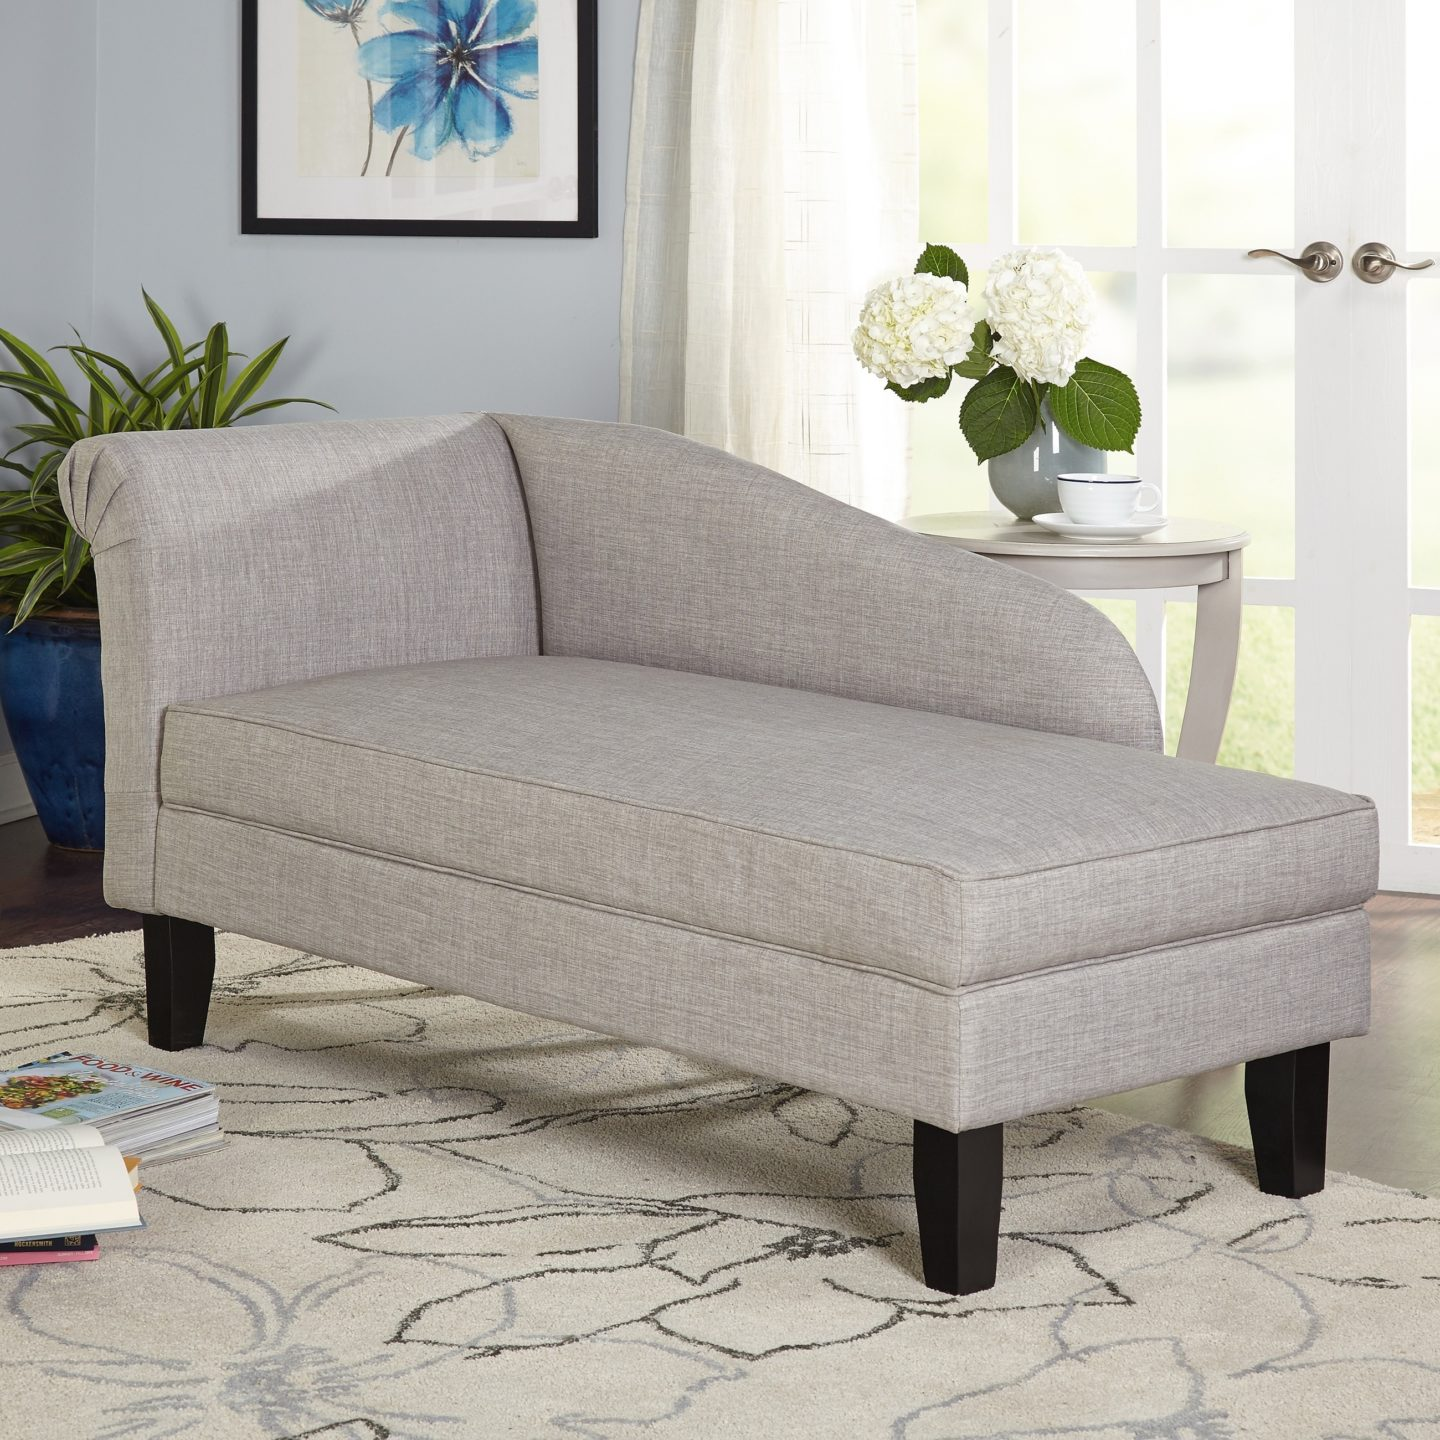chairs: (54, 405, 1385, 1295)
